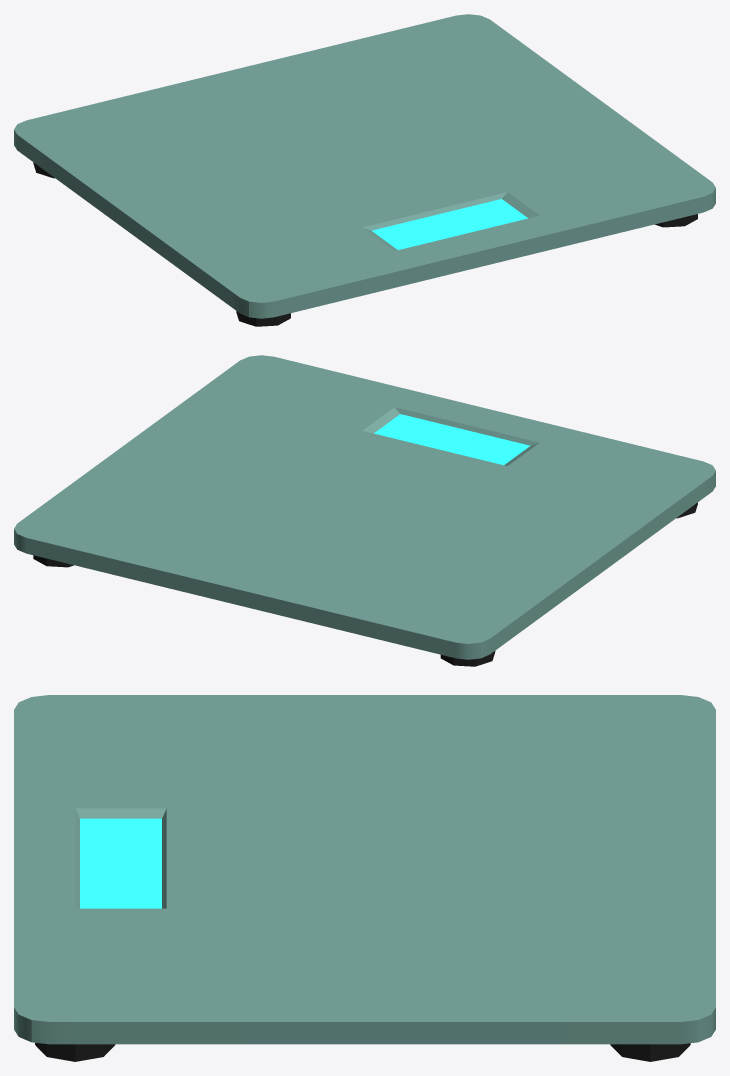
The model's file is weighingScale.fbx.
3 views of the same model, one above another, from view 1: azimuth 30°, elevation 25°; view 2: azimuth 150°, elevation 25°; view 3: azimuth 270°, elevation 25° (orthographic). The views are drawn at different scales.
Visible parts, largest first — view 1: weighingScale; view 2: weighingScale; view 3: weighingScale.
Boxes of the visible parts, box(x1,y1,x2,y2) form: weighingScale: box(14, 14, 715, 326); weighingScale: box(14, 355, 715, 666); weighingScale: box(14, 695, 715, 1061).
Bounding box in the file's own units: 0.6581 × 0.0428 × 0.5971.
